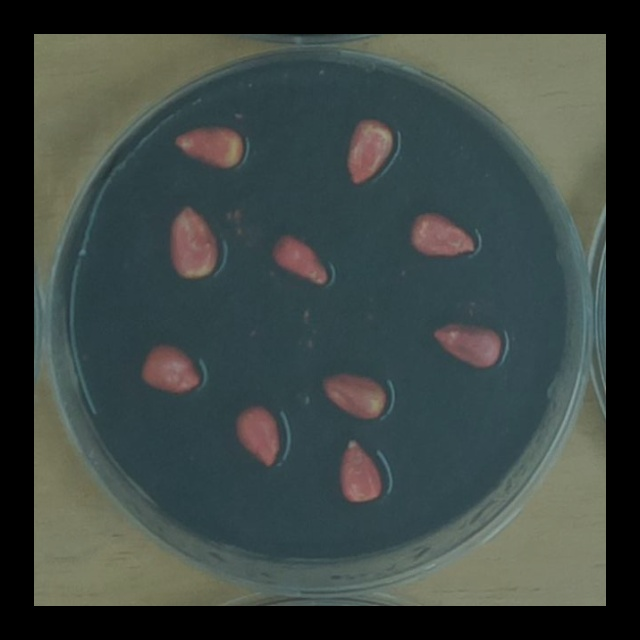Zea mays: (162, 197, 223, 284), (228, 396, 292, 472), (314, 362, 391, 424), (264, 226, 336, 292), (167, 118, 249, 175), (427, 313, 506, 372), (341, 110, 399, 189), (333, 430, 393, 506), (402, 203, 480, 261), (135, 337, 207, 399)
